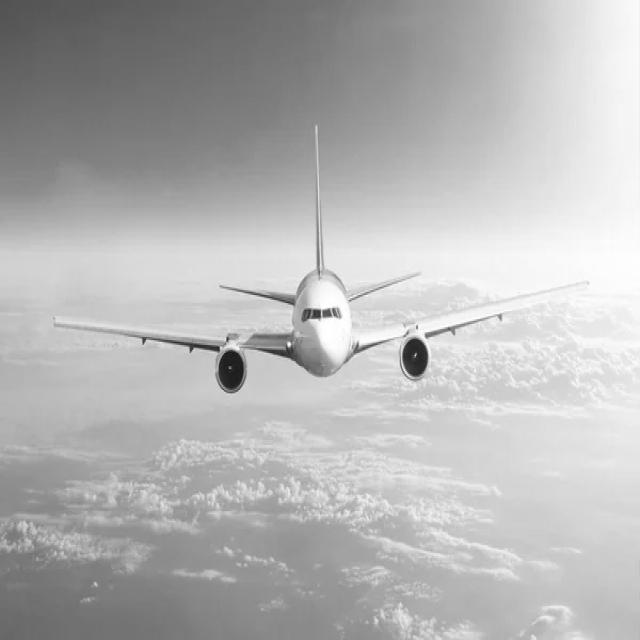Aircraft: (51, 124, 586, 402)
